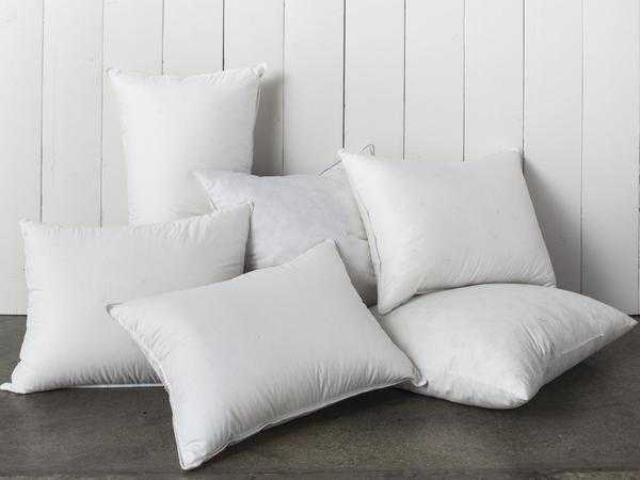pillow: (105, 238, 428, 470), (0, 200, 254, 394), (337, 145, 558, 315), (370, 280, 638, 410), (106, 61, 266, 225), (192, 164, 376, 306)
